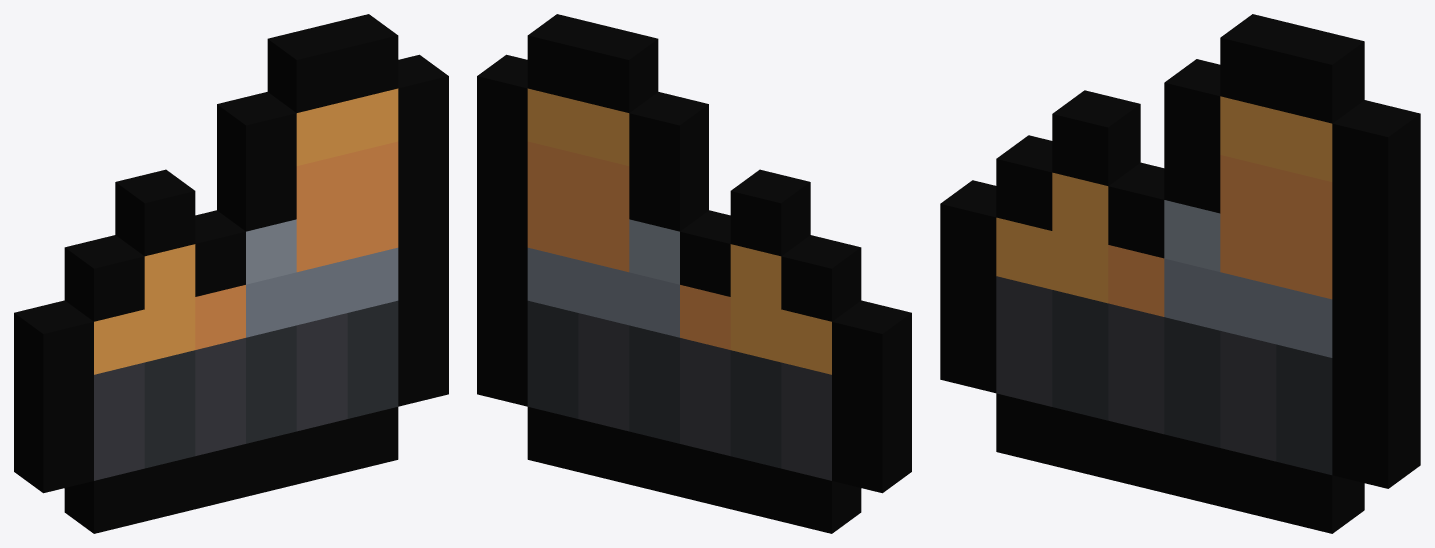
File: Hovercraft Item.glb
3 views of the same model, side by side, from view 1: azimuth 30°, elevation 25°; view 2: azimuth 150°, elevation 25°; view 3: azimuth 330°, elevation 25° (orthographic). The views are drawn at different scales.
Visible parts, largest first — view 1: generated(Clone); view 2: generated(Clone); view 3: generated(Clone).
Boxes of the visible parts, x1,y1,x2,y2 form: generated(Clone): [14, 14, 448, 533]; generated(Clone): [477, 14, 911, 533]; generated(Clone): [940, 14, 1420, 533].
Bounding box in the file's own units: 8 × 8 × 1.
1 material, 1 textured.
